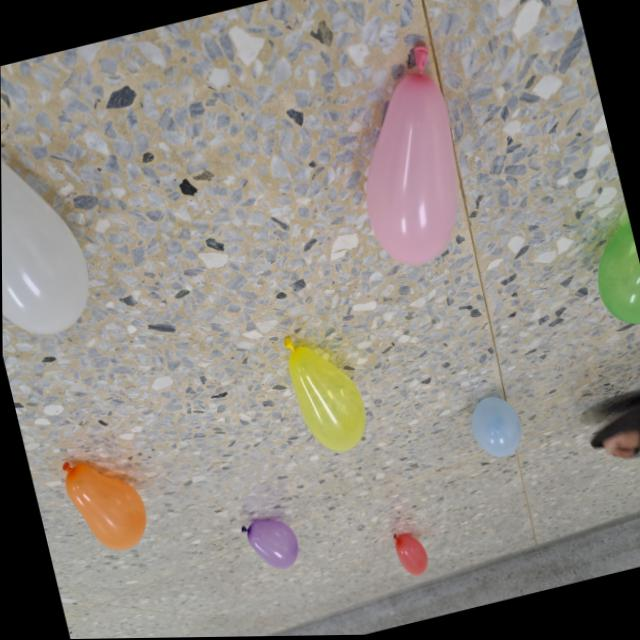other: (333, 43, 480, 277), (1, 91, 100, 349), (280, 323, 372, 462), (56, 447, 154, 562), (582, 218, 640, 335), (464, 391, 527, 465), (238, 513, 303, 579)
red: (389, 526, 431, 582)
